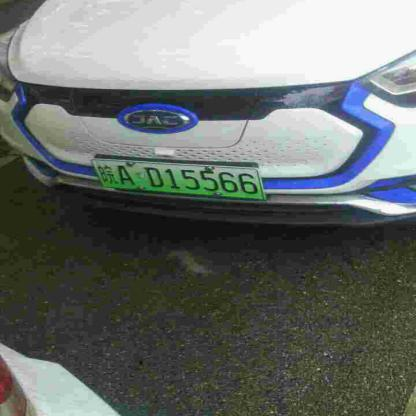lp: (92, 159, 266, 199)
